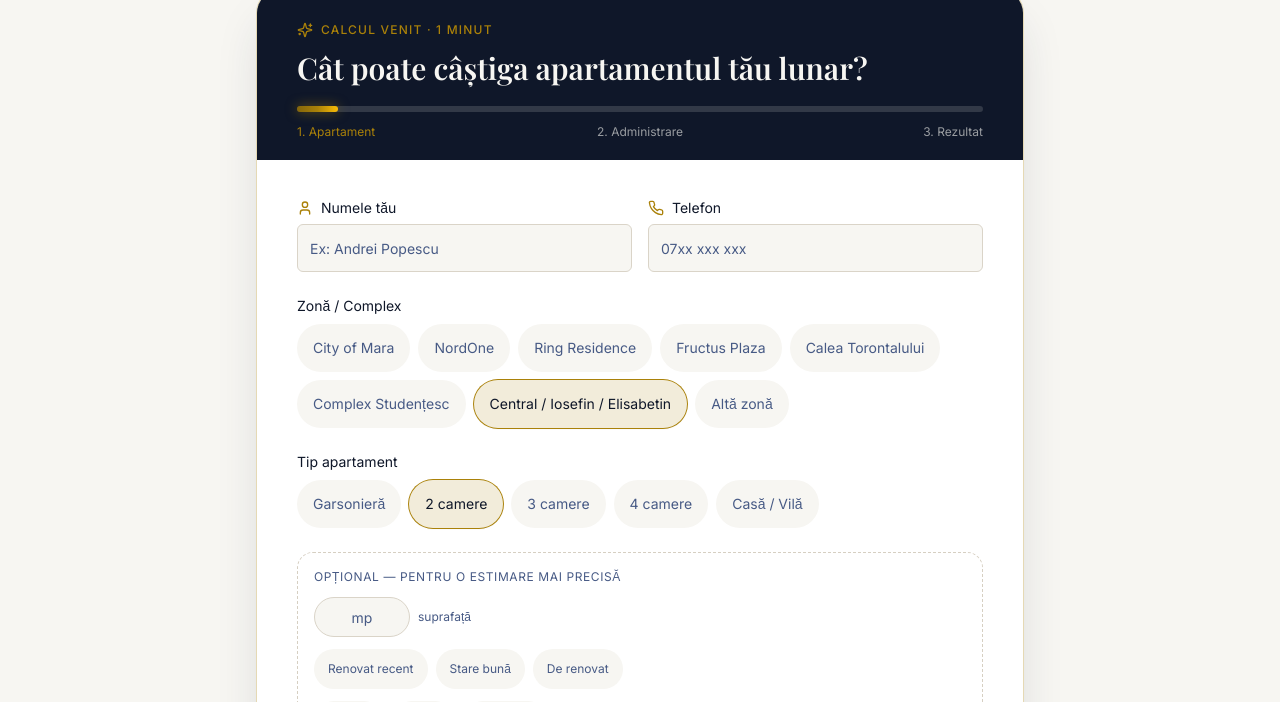
it: PreCalcMiniForm WhatsApp lead delivery › saves securely and sends the visitor capability with the WhatsApp request
Type "Test Proprietar" into the field labelled "Numele tău" at (464, 248), box [297,224,632,272]
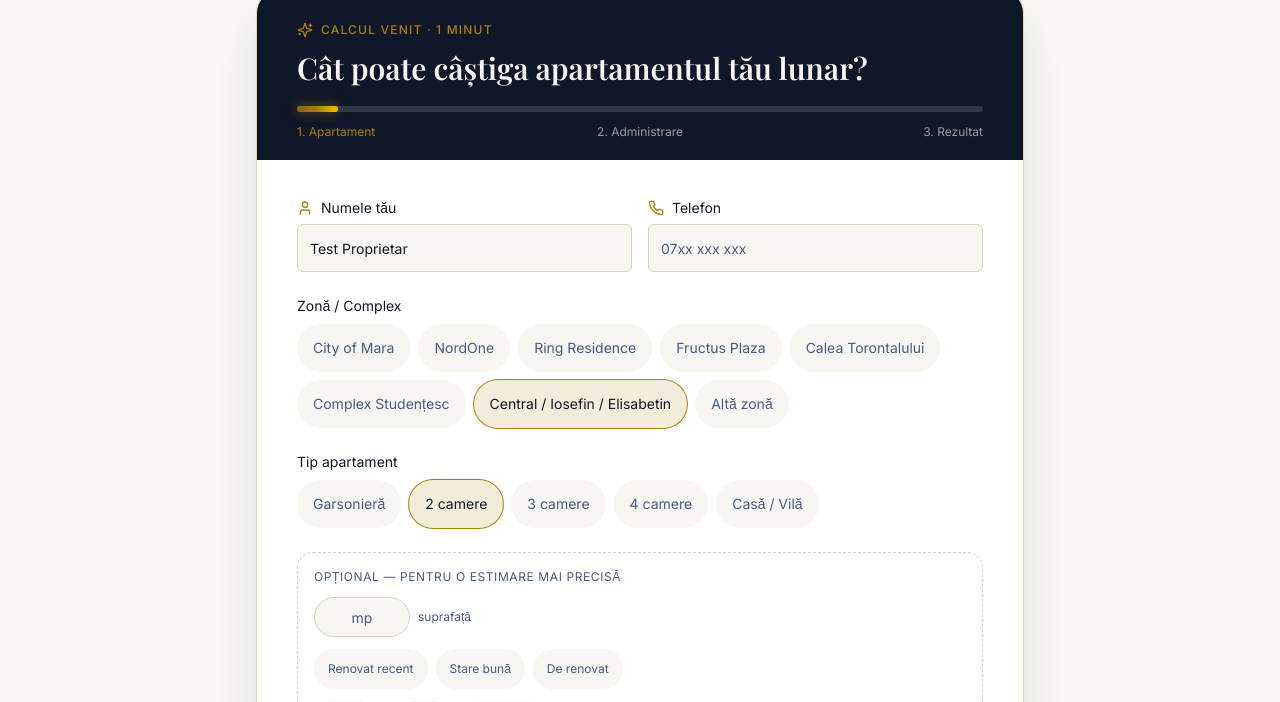
Type "0722 123 456" into the field labelled "Telefon" at (816, 248), box [648,224,983,272]
(page scrolled)
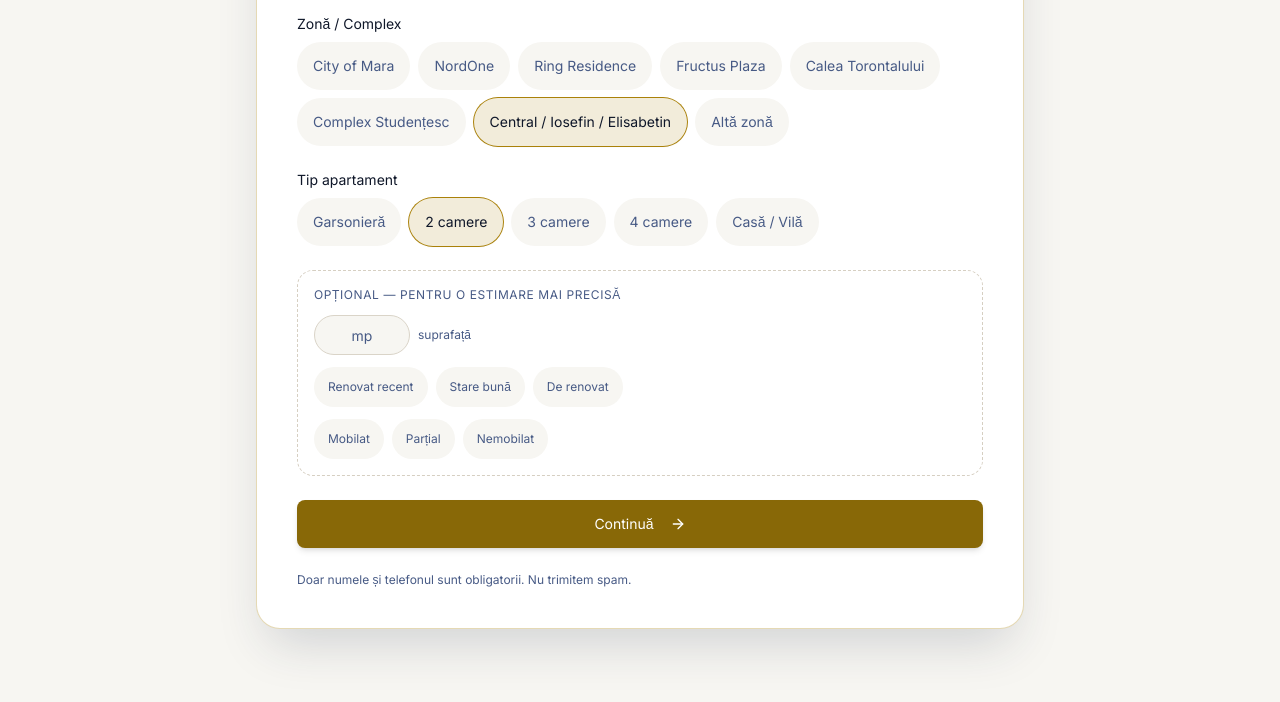
Click the button "Continuă" at (640, 524), box [297,500,983,548]
(page scrolled)
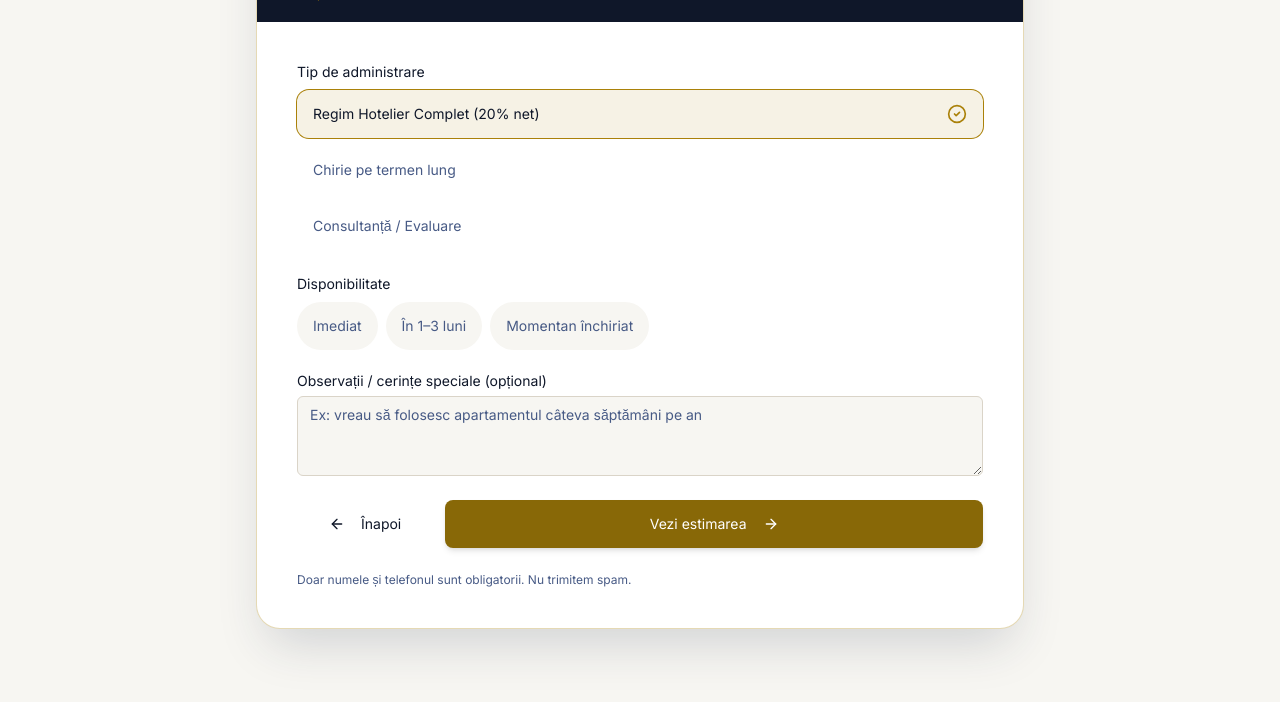
Click the button "Vezi estimarea" at (714, 524), box [445,500,983,548]
(page scrolled)
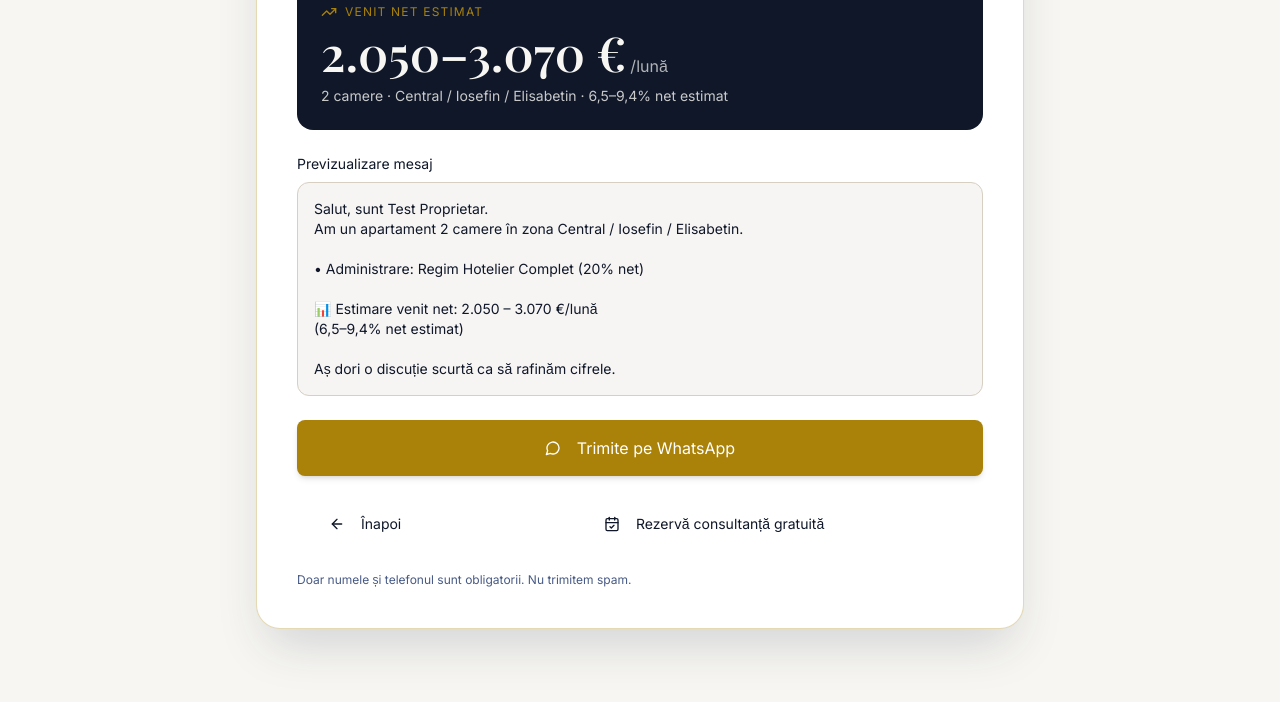
Click the button "Rezervă consultanță gratuită" at (714, 524), box [445,500,983,548]
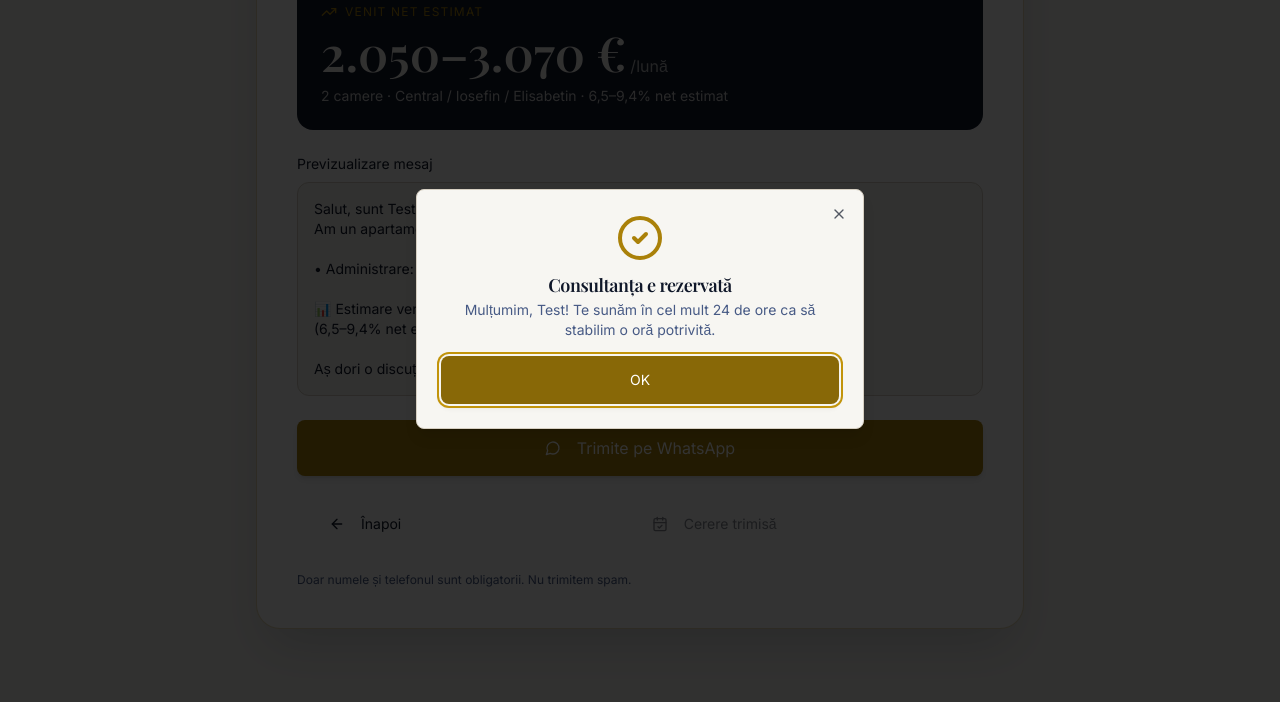
Check: the heading "Consultanța e rezervată" is shown, box [548,273,732,297]
